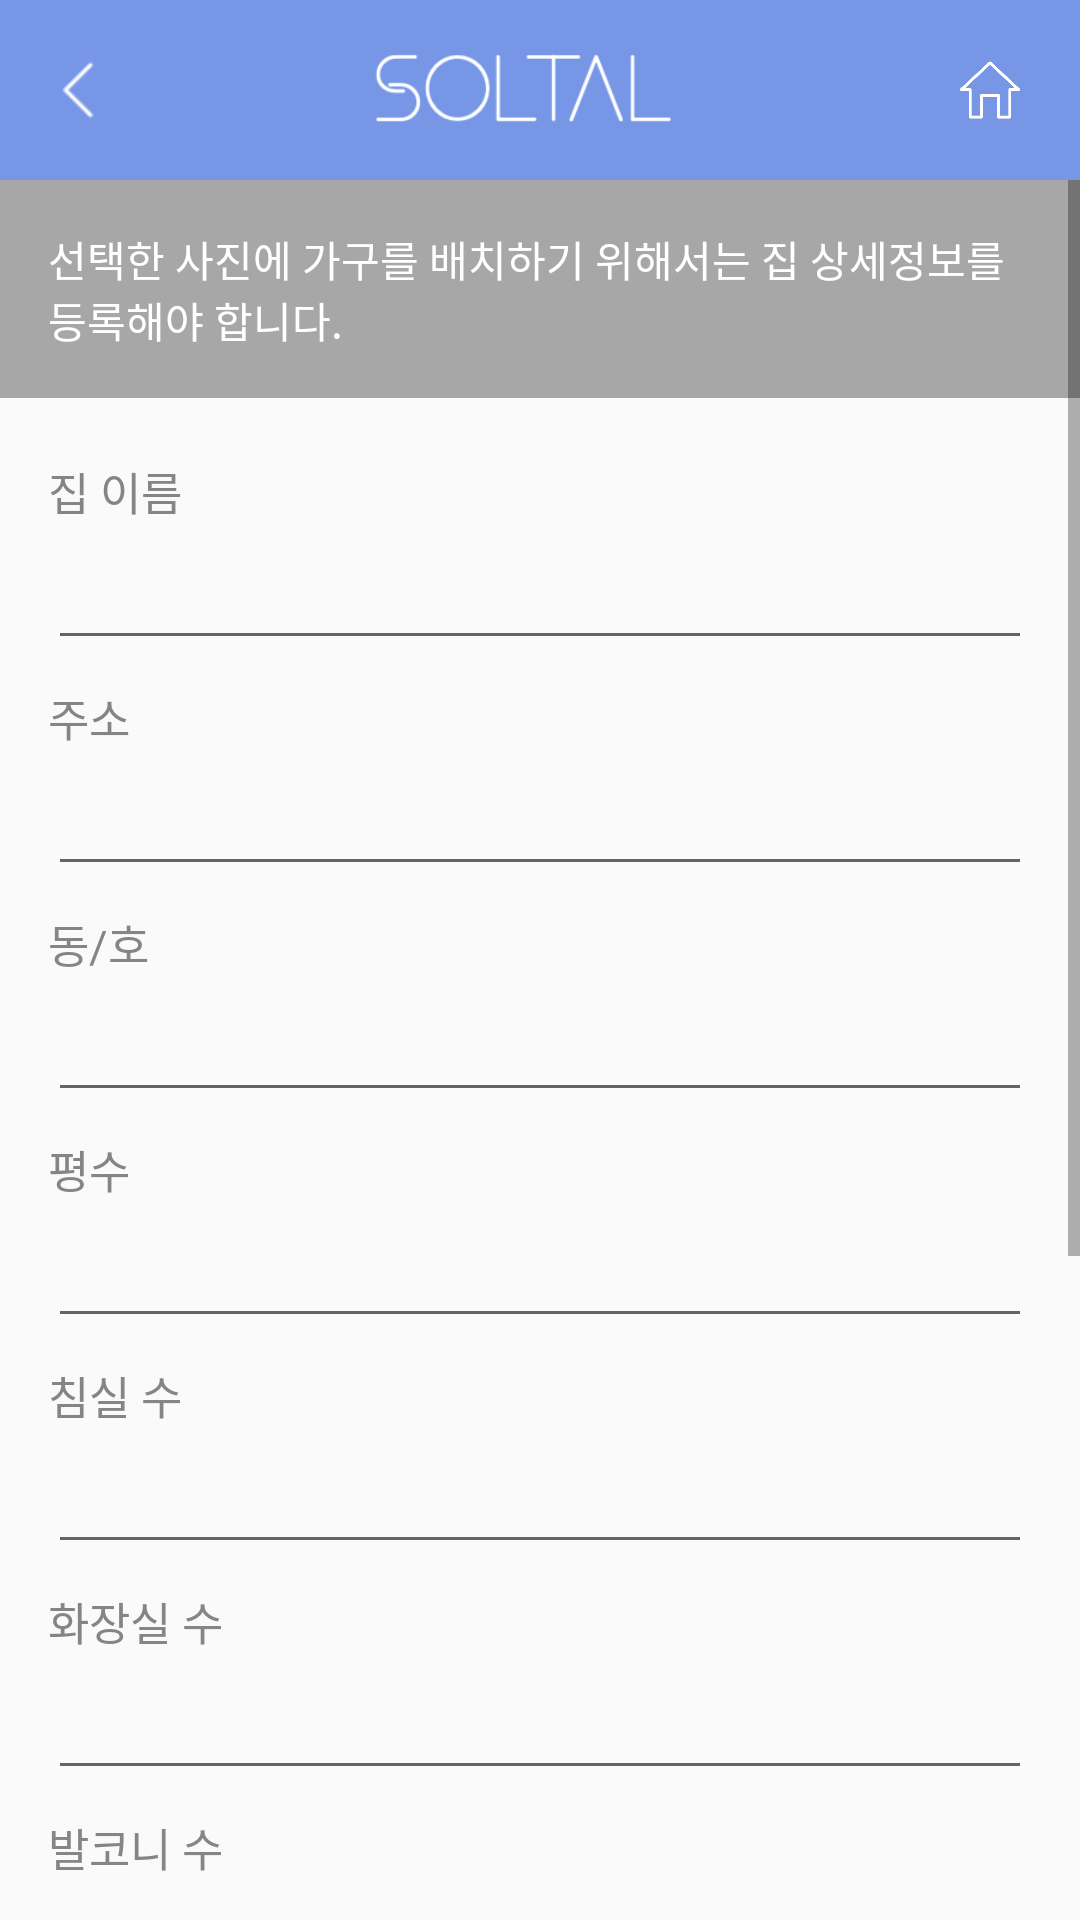

Icon click points for this 1080 × 1920 phone screenshot, format (x,y):
top back: (78,90)
top home: (990,90)
